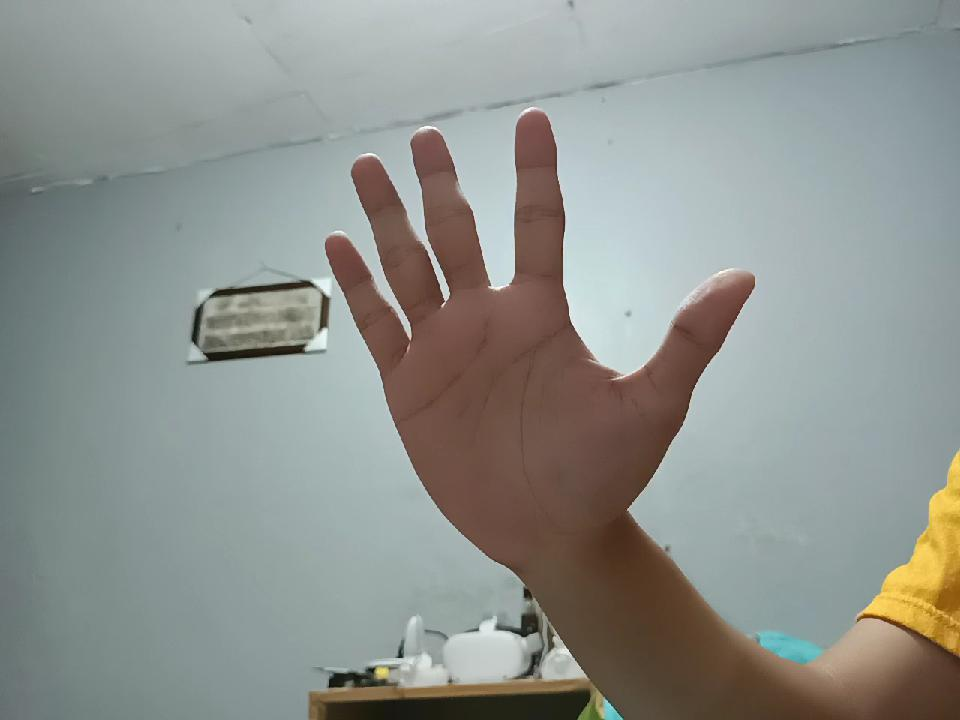paper: (312, 119, 752, 558)
